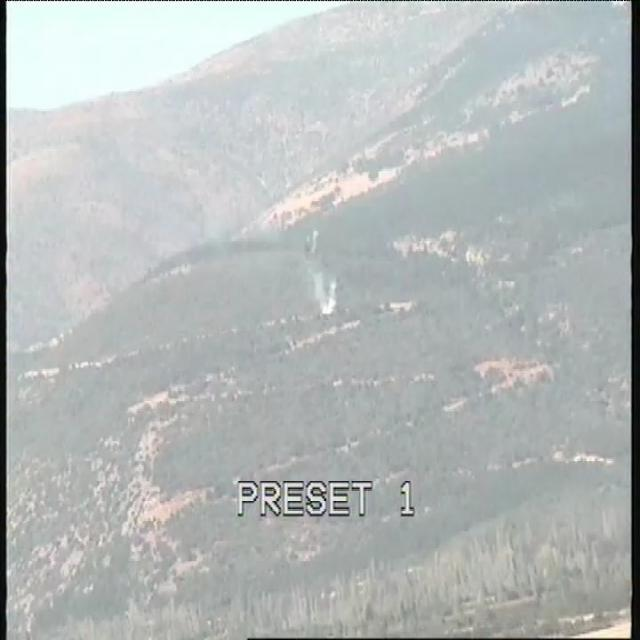smoke: (310, 267, 340, 322)
